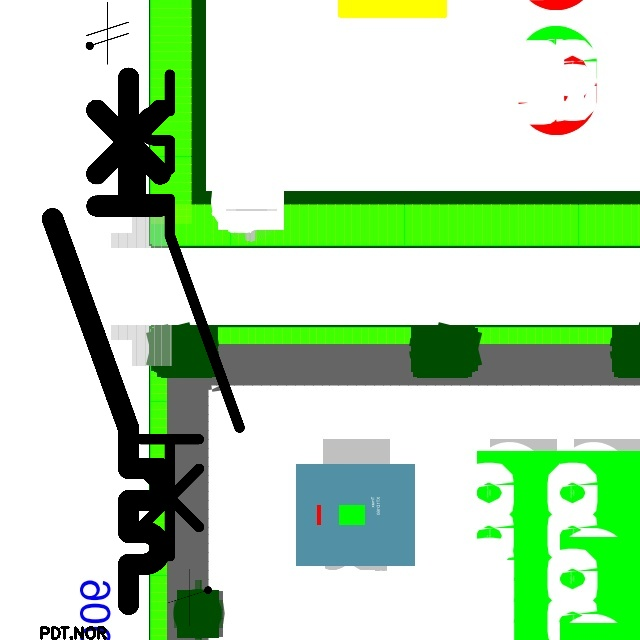interruptor_termomagnetico: (39, 64, 174, 617), (128, 62, 252, 568)
